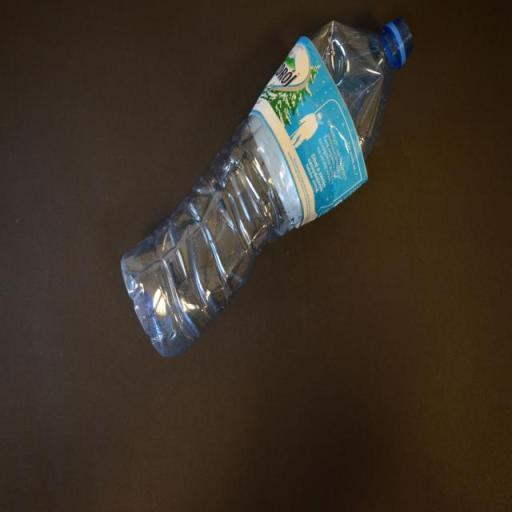plastic: (119, 20, 418, 358)
